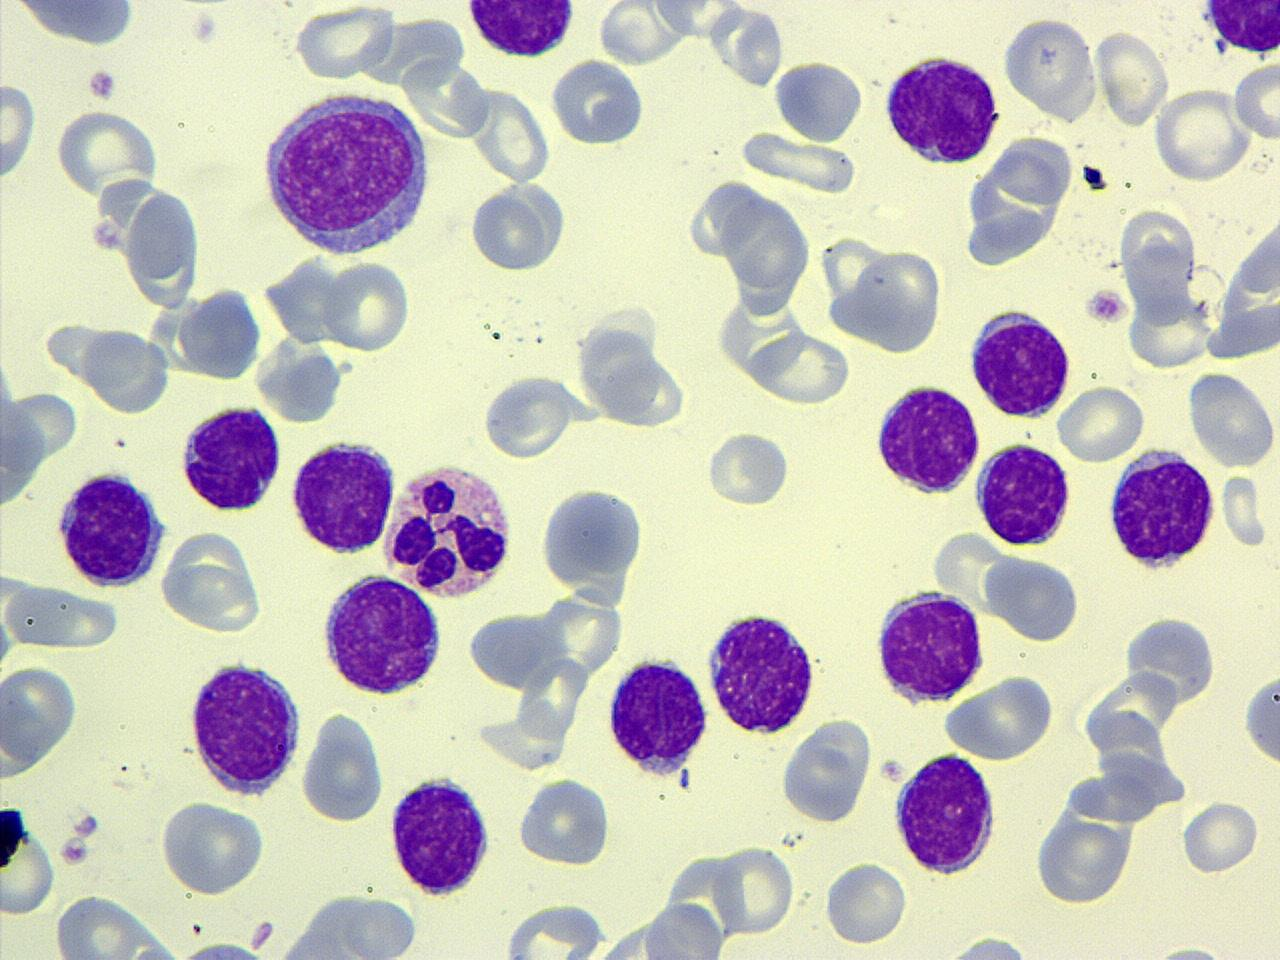Platelets: (1146, 938, 1238, 960), (0, 803, 27, 868), (1085, 284, 1129, 325), (86, 65, 120, 102), (189, 11, 223, 46), (74, 812, 101, 838), (1200, 1, 1215, 20), (1213, 34, 1225, 56)
RBC: (572, 301, 690, 427), (538, 479, 651, 609), (159, 798, 270, 898), (778, 717, 874, 826), (1002, 12, 1098, 121), (941, 672, 1056, 762), (52, 105, 164, 197), (123, 188, 206, 310), (299, 709, 385, 825), (1152, 86, 1254, 183), (720, 192, 812, 296), (514, 772, 614, 868), (855, 246, 946, 350), (1185, 367, 1277, 468), (1033, 811, 1129, 906), (0, 658, 80, 772), (548, 57, 648, 148), (743, 329, 855, 408), (321, 258, 412, 355), (176, 283, 265, 383), (467, 182, 559, 275), (83, 325, 175, 417), (478, 371, 572, 462), (290, 2, 398, 82), (992, 550, 1080, 645), (50, 891, 175, 959), (3, 581, 123, 650), (770, 57, 866, 144), (1090, 26, 1170, 129), (712, 840, 796, 938), (734, 130, 862, 195), (472, 85, 553, 185), (402, 54, 492, 142), (823, 856, 909, 948), (161, 562, 265, 635), (703, 427, 794, 509), (1054, 383, 1146, 463), (1125, 290, 1211, 370), (1179, 794, 1261, 876), (708, 4, 784, 89), (501, 899, 608, 959), (0, 808, 57, 917), (596, 0, 687, 65), (0, 395, 47, 516), (638, 899, 730, 960), (1238, 659, 1280, 774), (0, 76, 40, 186), (649, 0, 748, 42), (1232, 59, 1280, 144)
WBC: (816, 0, 1280, 460), (257, 83, 435, 259), (382, 456, 518, 604), (186, 656, 306, 801), (317, 568, 446, 700), (702, 601, 820, 739), (962, 136, 1078, 264), (1106, 444, 1220, 574), (54, 466, 172, 590), (536, 480, 650, 608), (881, 49, 1004, 166), (890, 748, 1002, 876), (385, 770, 496, 899), (872, 584, 988, 707), (286, 435, 401, 557), (604, 651, 712, 778), (870, 378, 984, 498), (966, 302, 1075, 422), (1203, 203, 1280, 366), (177, 400, 285, 514), (258, 892, 428, 960), (972, 439, 1074, 547), (302, 702, 388, 826), (466, 179, 572, 277), (178, 278, 264, 387), (580, 903, 740, 959), (550, 58, 648, 150), (770, 56, 866, 145), (462, 1, 578, 61), (3, 0, 142, 49), (0, 394, 47, 515), (1200, 1, 1280, 61), (1240, 662, 1280, 772)
